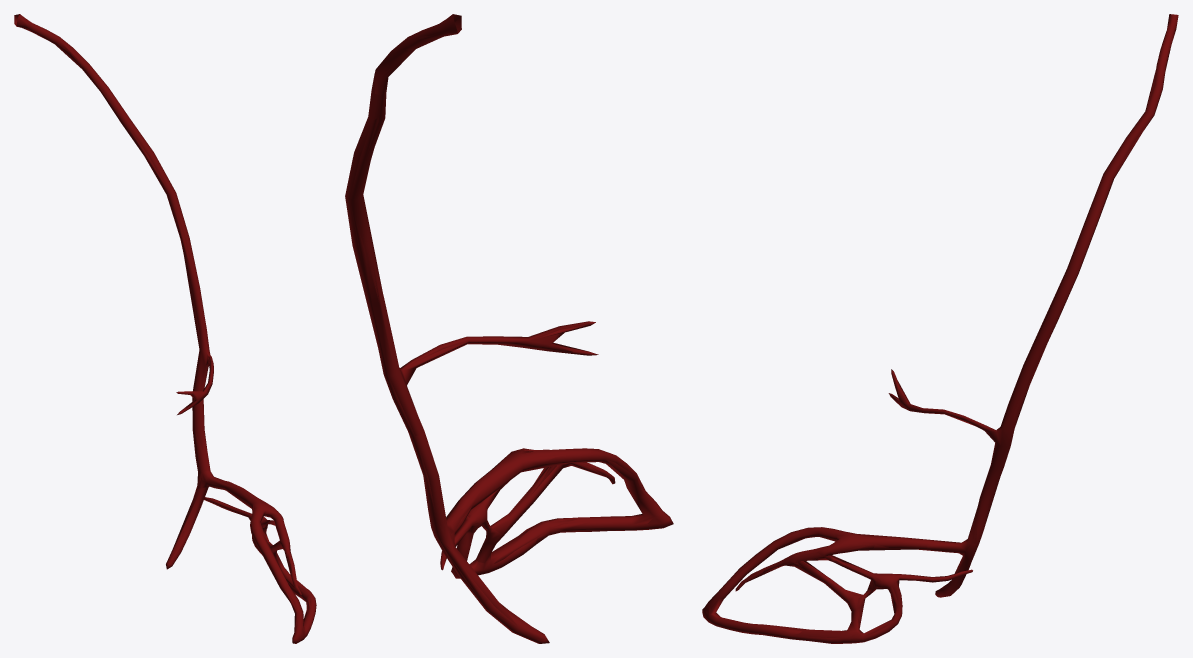
File: RB digitales medialis.fbx
3 renders of one model, left to right at view 1: azimuth 30°, elevation 25°; view 2: azimuth 150°, elevation 25°; view 3: azimuth 270°, elevation 25°, orthographic. The views are drawn at different scales.
Visible parts, largest first — view 1: RB digitales medialis, RB digitales medialis low; view 2: RB digitales medialis, RB digitales medialis low; view 3: RB digitales medialis, RB digitales medialis low.
Part boxes in pixels (x1=…): RB digitales medialis: x1=14, y1=14, x2=316, y2=643; RB digitales medialis low: x1=14, y1=14, x2=314, y2=635; RB digitales medialis: x1=345, y1=14, x2=673, y2=643; RB digitales medialis low: x1=345, y1=14, x2=668, y2=640; RB digitales medialis: x1=702, y1=14, x2=1178, y2=643; RB digitales medialis low: x1=706, y1=14, x2=1174, y2=643.
Size of the model in its own units: 2.91 by 10.41 by 7.94.
